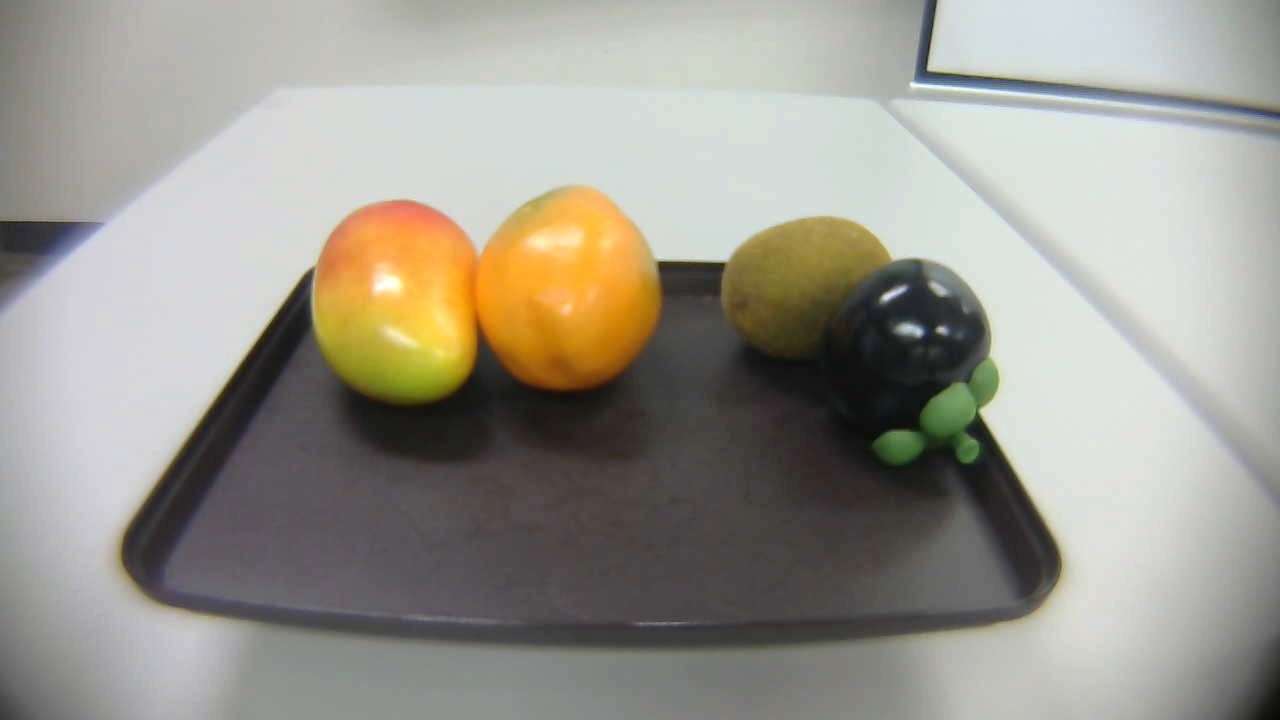kiwi fruit: (717, 206, 897, 358)
mangosteen: (812, 260, 1014, 484)
papya: (465, 176, 677, 414)
red mango: (310, 191, 485, 406)
